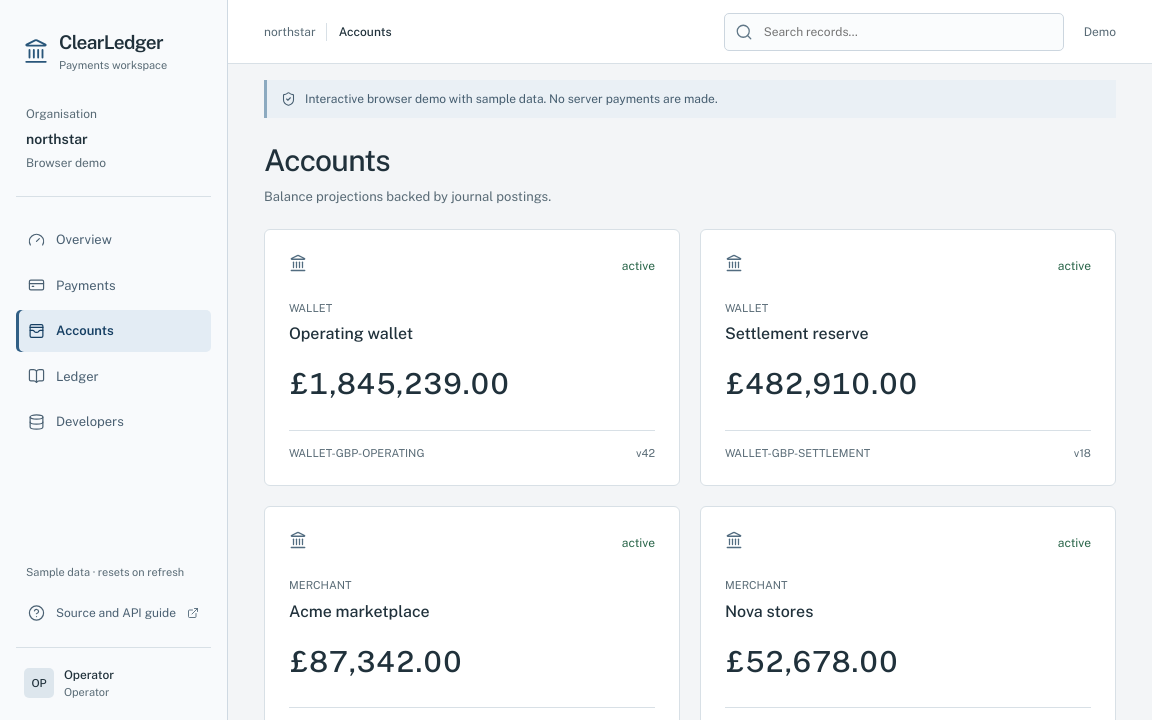
Test: filters account records and explains empty search results
Expected: the heading "Operating wallet" is shown, [289, 324, 413, 343]
Type "Acme" into the field labelled "Search records" at (907, 32), box [762, 22, 1053, 42]
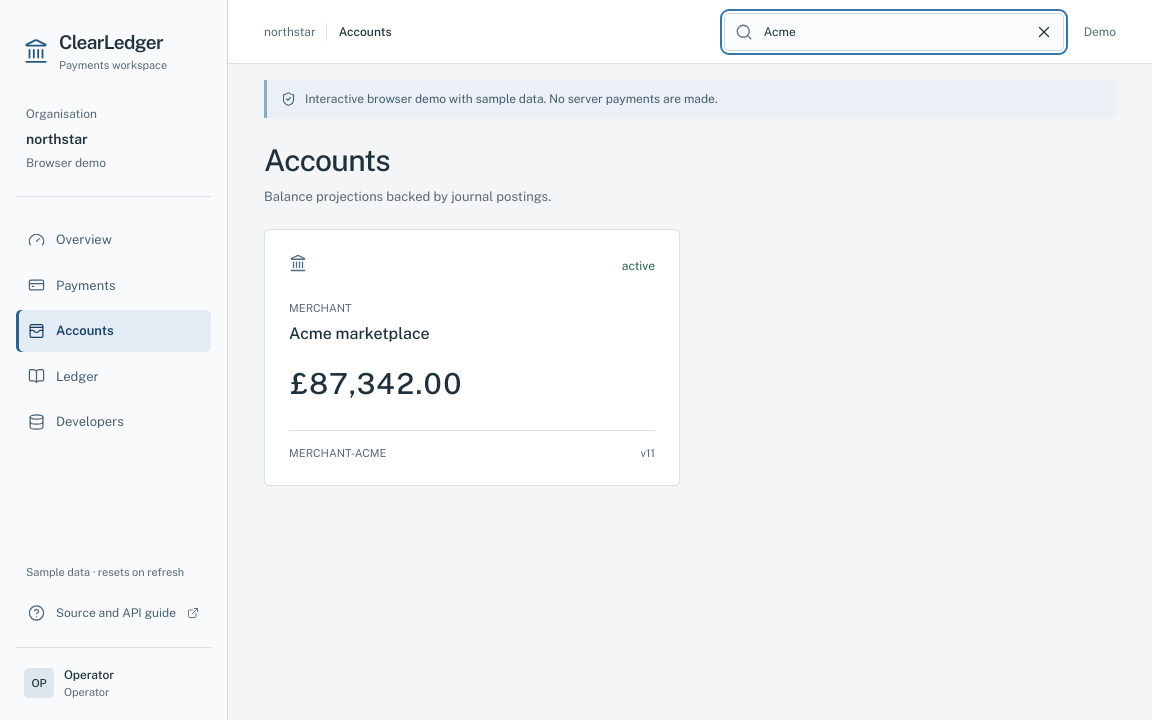
Expected: the heading "Acme marketplace" is shown, [289, 324, 430, 343]
Result: the heading "Operating wallet" is gone
Clear the field named "Search records" at (894, 32), box [762, 22, 1026, 42]
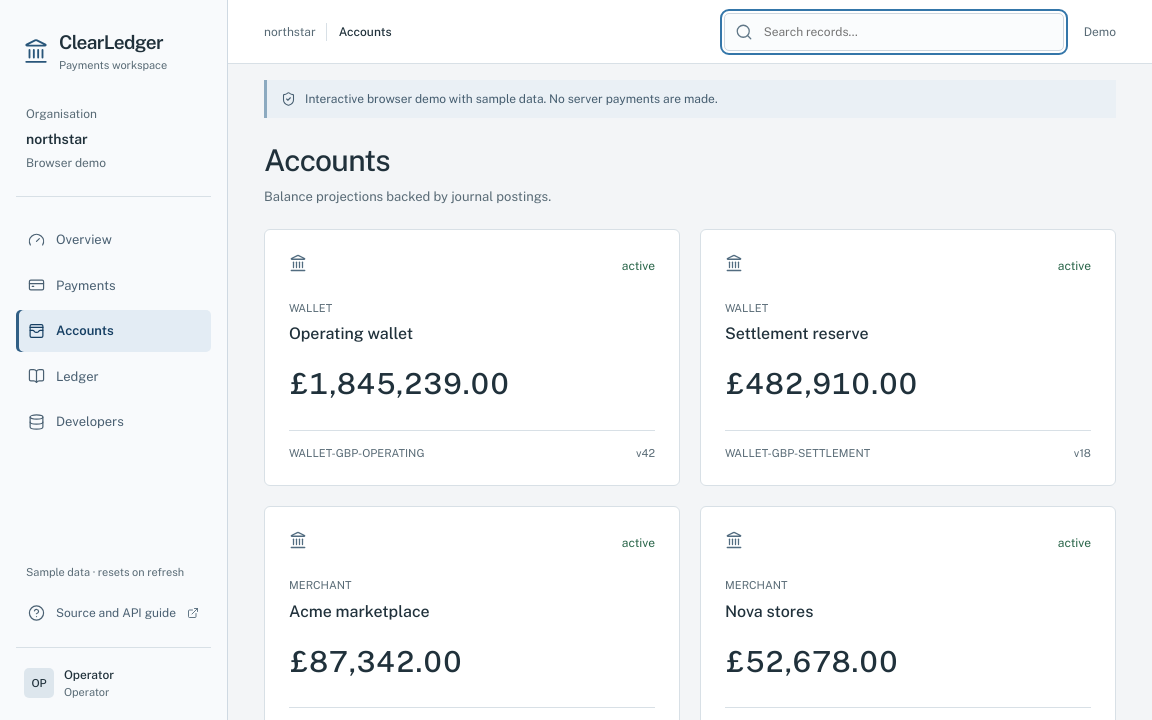
Type "missing" into the field labelled "Search records" at (907, 32), box [762, 22, 1053, 42]
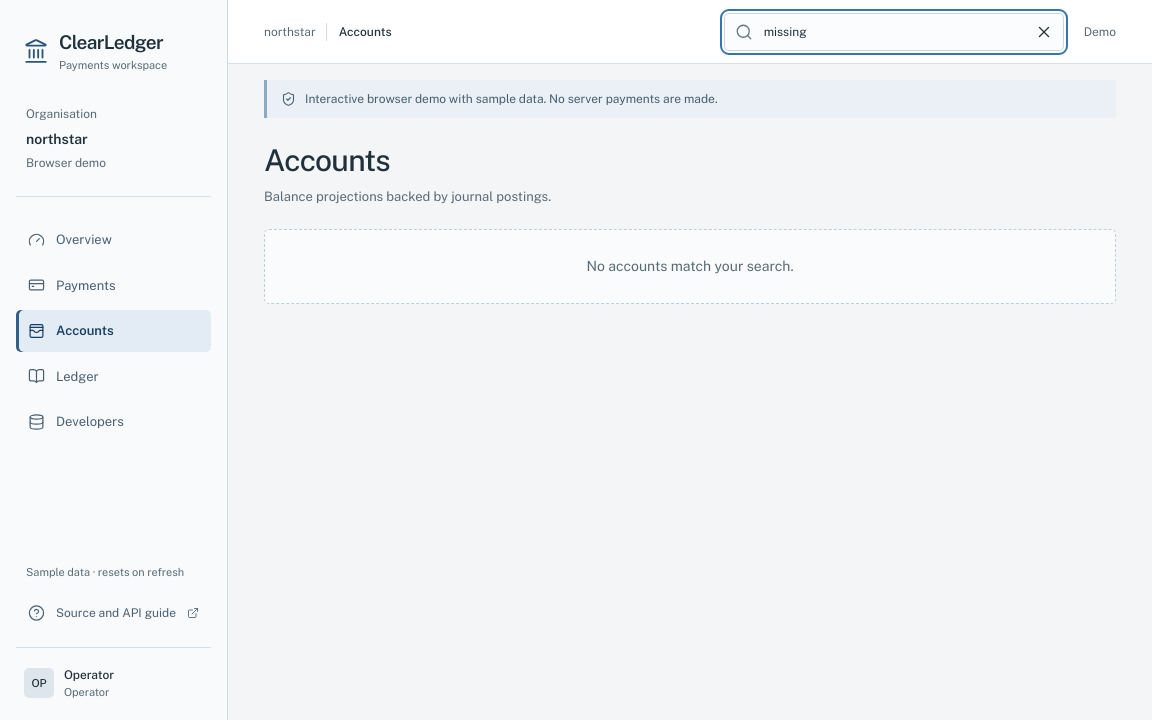
Result: the text "No accounts match your search." is shown at [264, 228, 1116, 304]
